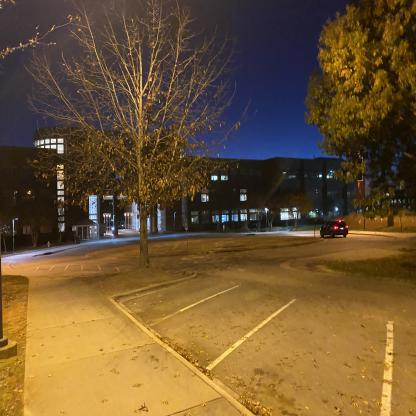eb2: (7, 128, 381, 225)
